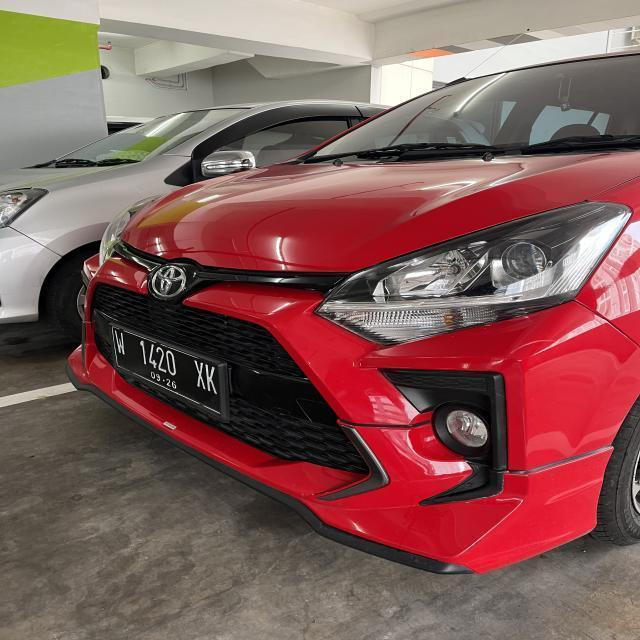0: (165, 350, 178, 376)
1: (139, 339, 148, 367)
2: (156, 345, 166, 375)
4: (146, 342, 156, 369)
K: (206, 361, 217, 393)
W: (114, 328, 128, 356)
X: (193, 358, 204, 392)
